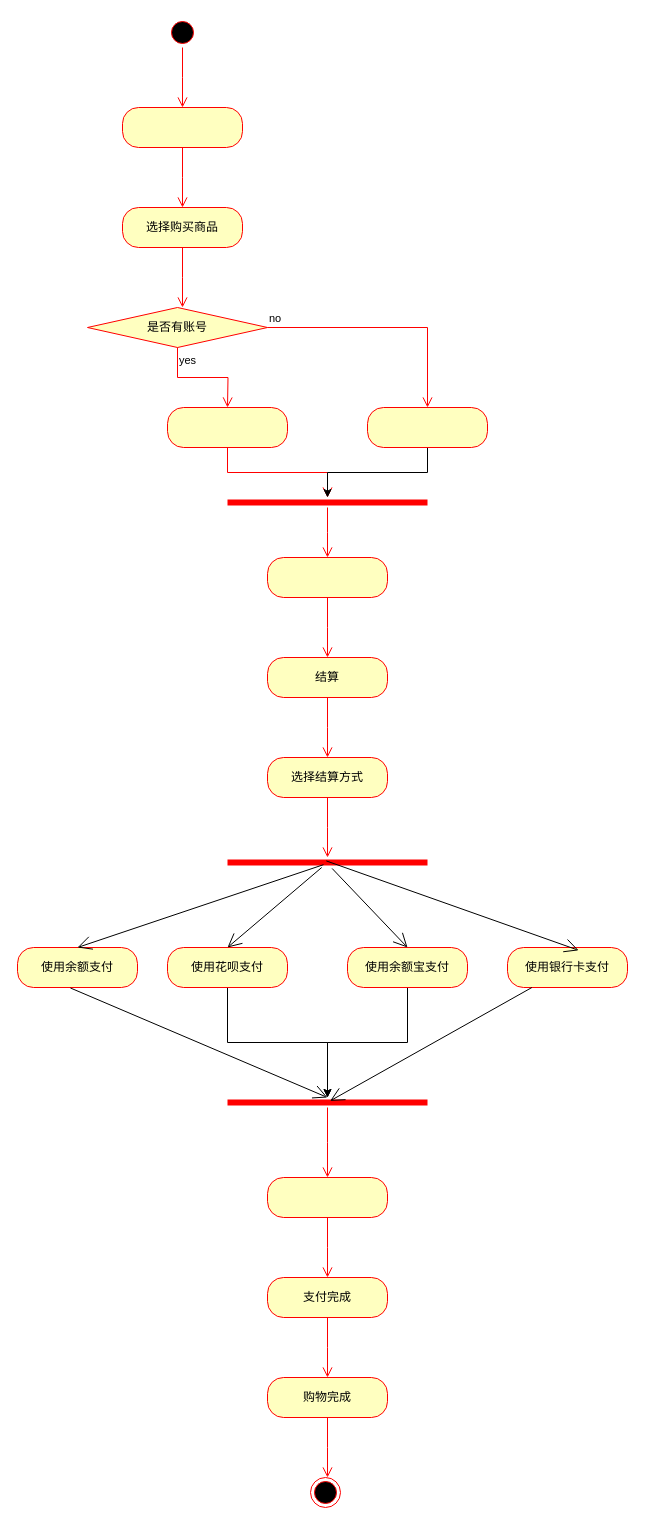
The diagram is 645 pixels wide and 1525 high, and some of its shapes have lost their labels. Each missing label, with the box of its shape:
下单: (266, 556, 388, 598)
注册账号: (366, 406, 488, 448)
浏览网页: (122, 106, 242, 148)
用户登录: (166, 406, 288, 448)
确认支付: (266, 1176, 388, 1218)
